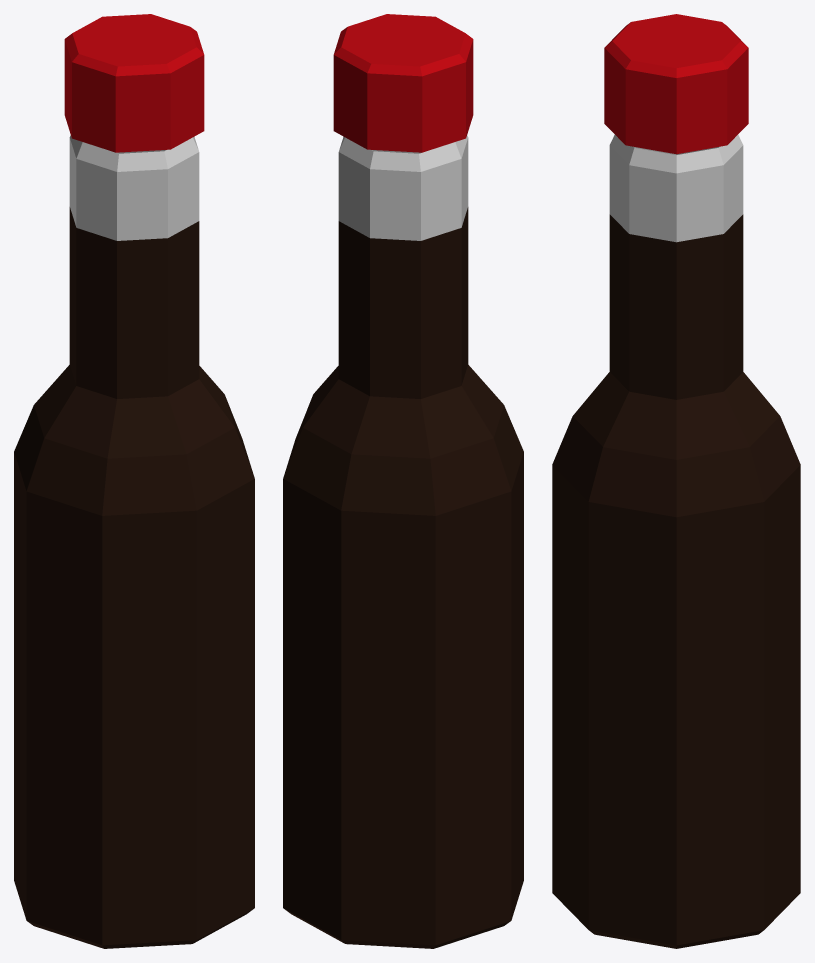
File: Soy_Bottle.glb
The picture shows the model from 3 angles, left to right: view 1: azimuth 30°, elevation 25°; view 2: azimuth 150°, elevation 25°; view 3: azimuth 270°, elevation 25°; orthographic projection.
Visible parts, largest first — view 1: Cylinder.002; view 2: Cylinder.002; view 3: Cylinder.002.
Part boxes in pixels (bbox=[...]): Cylinder.002: bbox=[14, 14, 254, 948]; Cylinder.002: bbox=[283, 14, 523, 948]; Cylinder.002: bbox=[552, 14, 800, 948].
Bounding box in the file's own units: 0.0697 × 0.2659 × 0.0697.
